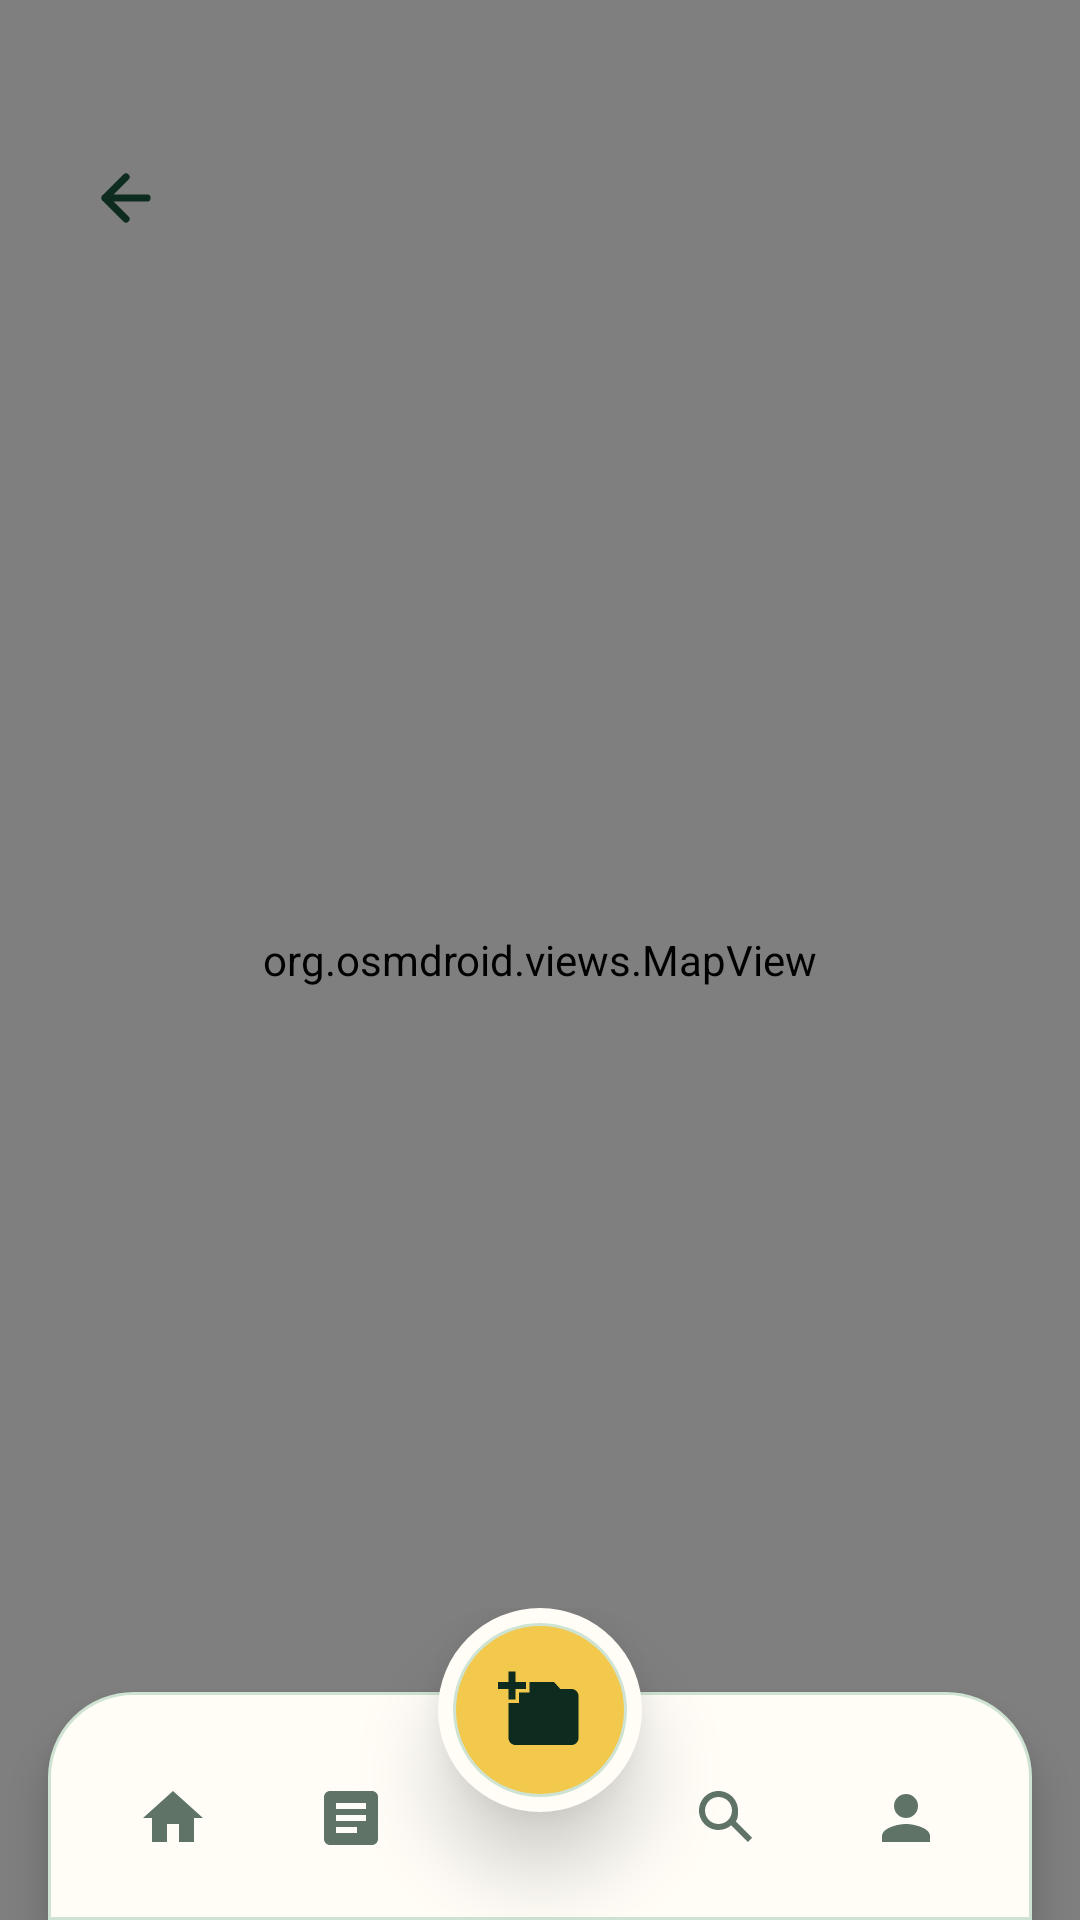

Where icons sit on this 1080px×1920px app screen, as [left=x1, top=y1, right=x2, bottom=y2]:
Back: [left=101, top=173, right=151, bottom=223]
Home: [left=143, top=1791, right=203, bottom=1842]
Profile: [left=882, top=1794, right=930, bottom=1842]
Records: [left=324, top=1791, right=378, bottom=1845]
Search: [left=699, top=1791, right=752, bottom=1842]
